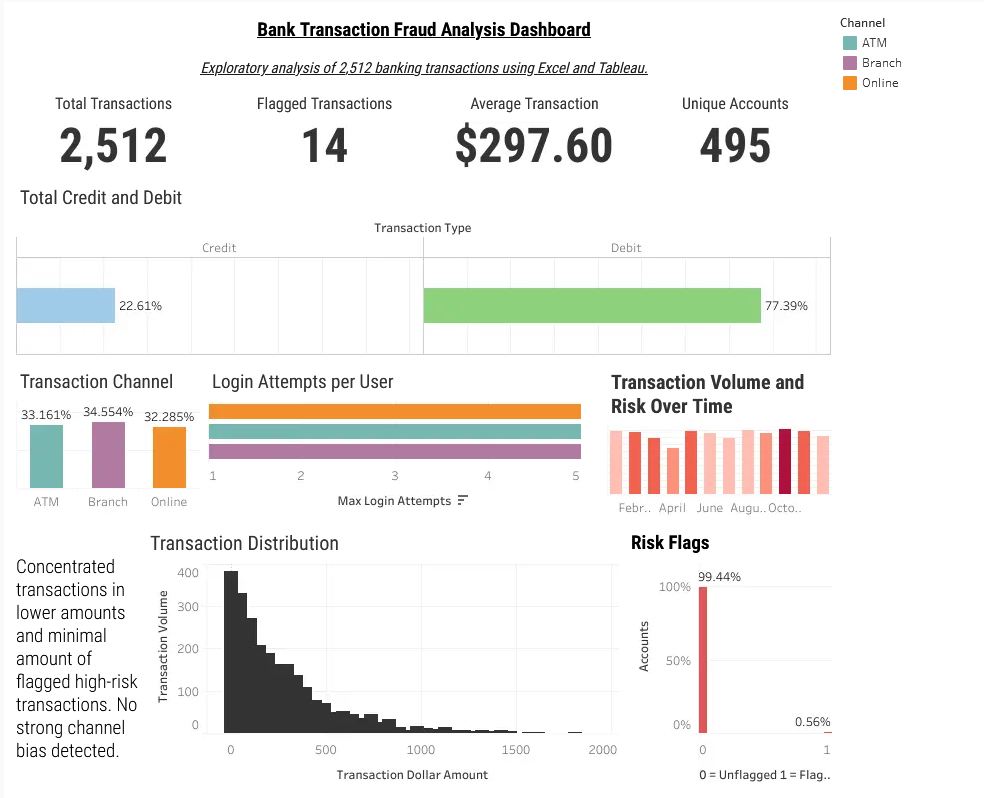

The page's visual inventory and layout, read from the dashboard file:
{"tool":"tableau","page":{"name":"Bank Transaction Fraud Analysis Dashboard","canvas":[1000,800],"ordinal":0},"visuals":[{"type":"text","box":[8,8,824,73]},{"type":"legend","title":"Transaction Channel","param":"[federated.0radgj916oy3461djrl750jwldx1].[none:Channel:nk]","box":[832,8,160,87]},{"type":"worksheet","title":"Total Transactions","mark":"Automatic","box":[8,81,202.6,92]},{"type":"worksheet","title":"Flagged Transactions","mark":"Automatic","box":[210.6,81,219.4,92]},{"type":"worksheet","title":"Average Transaction","mark":"Automatic","box":[430,81,201,92]},{"type":"worksheet","title":"Unique Accounts","mark":"Automatic","box":[631,81,201,92]},{"type":"worksheet","title":"Transaction Types","mark":"Automatic","cols":["TransactionType","TransactionID"],"box":[8,173,824,184]},{"type":"worksheet","title":"Transaction Channel","mark":"Automatic","rows":["TransactionID"],"cols":["Channel"],"box":[8,357,191.6,161]},{"type":"worksheet","title":"Login Attempts","mark":"Bar","rows":["TransactionID"],"cols":["MaxLoginAttempts"],"box":[199.6,357,399,161]},{"type":"worksheet","title":"Risk Over Time","mark":"Bar","rows":["TransactionID"],"cols":["TransactionDate"],"box":[598.6,357,233.4,161]},{"type":"text","box":[8,518,129.8,274]},{"type":"worksheet","title":"Transaction Amount Distribution","mark":"Bar","rows":["TransactionAmount"],"cols":["Transaction Amount (bin)"],"box":[137.8,518,481.5,274]},{"type":"worksheet","title":"Risk Flags","mark":"Bar","rows":["TransactionID"],"cols":["RiskFlag"],"box":[619.3,518,212.7,274]}]}

Visuals, with their boxes in screenshot pixels (x1, y1, x2, y2), scaled from the page's 1000x800 canvas onto the 984x798 screenshot:
text: box=[8, 8, 819, 81]
"Transaction Channel" legend: box=[819, 8, 976, 95]
"Total Transactions" worksheet: box=[8, 81, 207, 173]
"Flagged Transactions" worksheet: box=[207, 81, 423, 173]
"Average Transaction" worksheet: box=[423, 81, 621, 173]
"Unique Accounts" worksheet: box=[621, 81, 819, 173]
"Transaction Types" worksheet: box=[8, 173, 819, 356]
"Transaction Channel" worksheet: box=[8, 356, 196, 517]
"Login Attempts" worksheet (Bar marks): box=[196, 356, 589, 517]
"Risk Over Time" worksheet (Bar marks): box=[589, 356, 819, 517]
text: box=[8, 517, 136, 790]
"Transaction Amount Distribution" worksheet (Bar marks): box=[136, 517, 609, 790]
"Risk Flags" worksheet (Bar marks): box=[609, 517, 819, 790]
